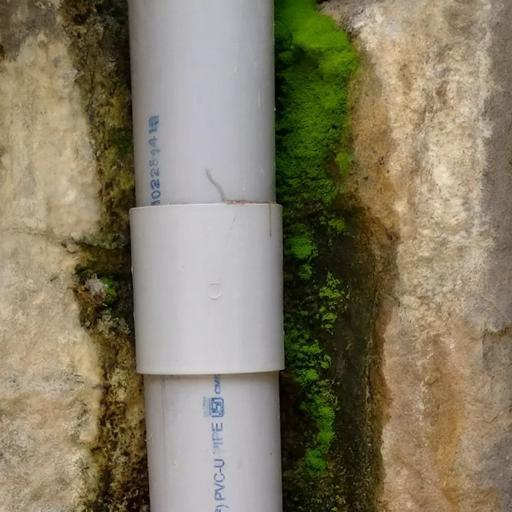algae: (55, 12, 429, 512)
